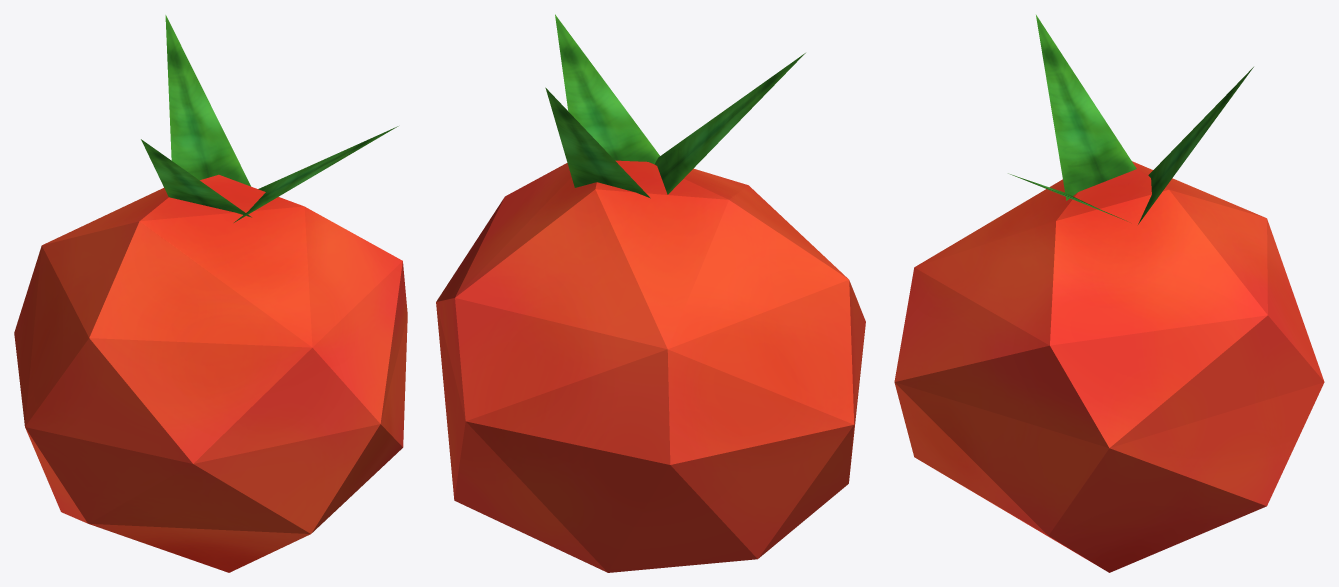
The model's file is tomato.gltf.
3 views of the same model, side by side, from view 1: azimuth 30°, elevation 25°; view 2: azimuth 150°, elevation 25°; view 3: azimuth 270°, elevation 25° (orthographic). The views are drawn at different scales.
Visible parts, largest first — view 1: Tomato, Tomato Leaf1, Tomato Leaf2, Tomato Leaf3; view 2: Tomato, Tomato Leaf3, Tomato Leaf2, Tomato Leaf1; view 3: Tomato, Tomato Leaf2, Tomato Leaf1.
Part boxes in pixels (bbox=[...]): Tomato: bbox=[14, 174, 407, 572]; Tomato Leaf1: bbox=[165, 15, 250, 186]; Tomato Leaf2: bbox=[141, 139, 251, 217]; Tomato Leaf3: bbox=[234, 126, 398, 222]; Tomato: bbox=[436, 160, 865, 572]; Tomato Leaf3: bbox=[555, 14, 659, 164]; Tomato Leaf2: bbox=[654, 53, 805, 194]; Tomato Leaf1: bbox=[545, 87, 650, 198]; Tomato: bbox=[894, 161, 1324, 572]; Tomato Leaf2: bbox=[1036, 15, 1136, 200]; Tomato Leaf1: bbox=[1138, 67, 1253, 224].
Size of the model in its own units: 0.068 by 0.0809 by 0.0647.
2 materials, 2 textured.
